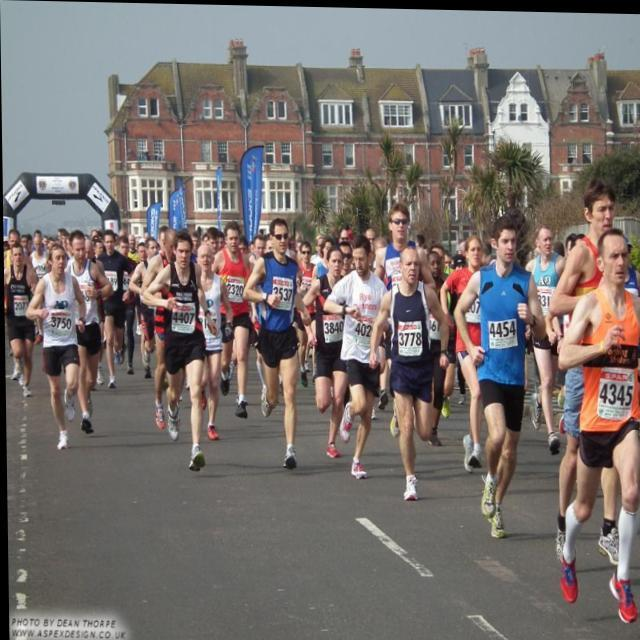dorsal: (592, 359, 638, 422), (484, 316, 518, 350), (397, 315, 425, 354), (169, 300, 196, 336), (270, 274, 294, 313), (46, 308, 72, 337), (322, 312, 345, 342), (353, 312, 372, 348), (223, 276, 245, 303), (11, 292, 30, 317)
